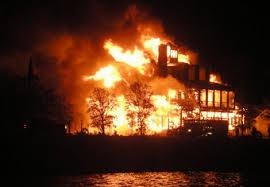fire: (78, 29, 240, 134)
